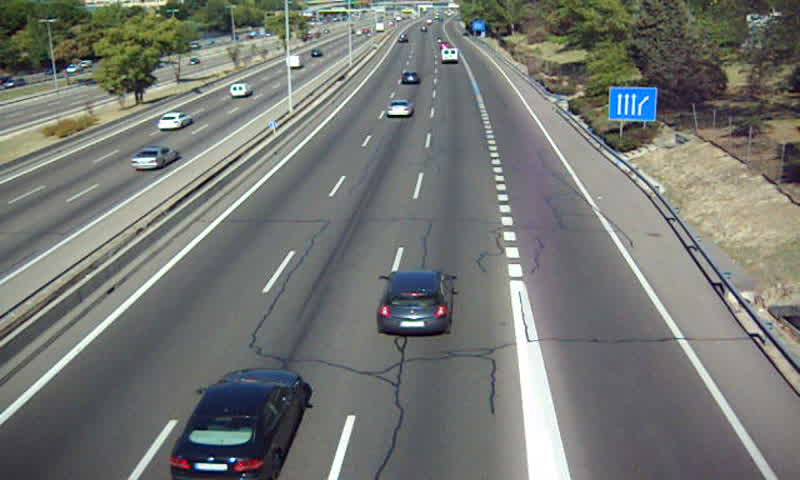car: (170, 368, 304, 480), (377, 269, 454, 335), (384, 99, 414, 119), (400, 71, 420, 87)
van: (441, 47, 458, 63)
